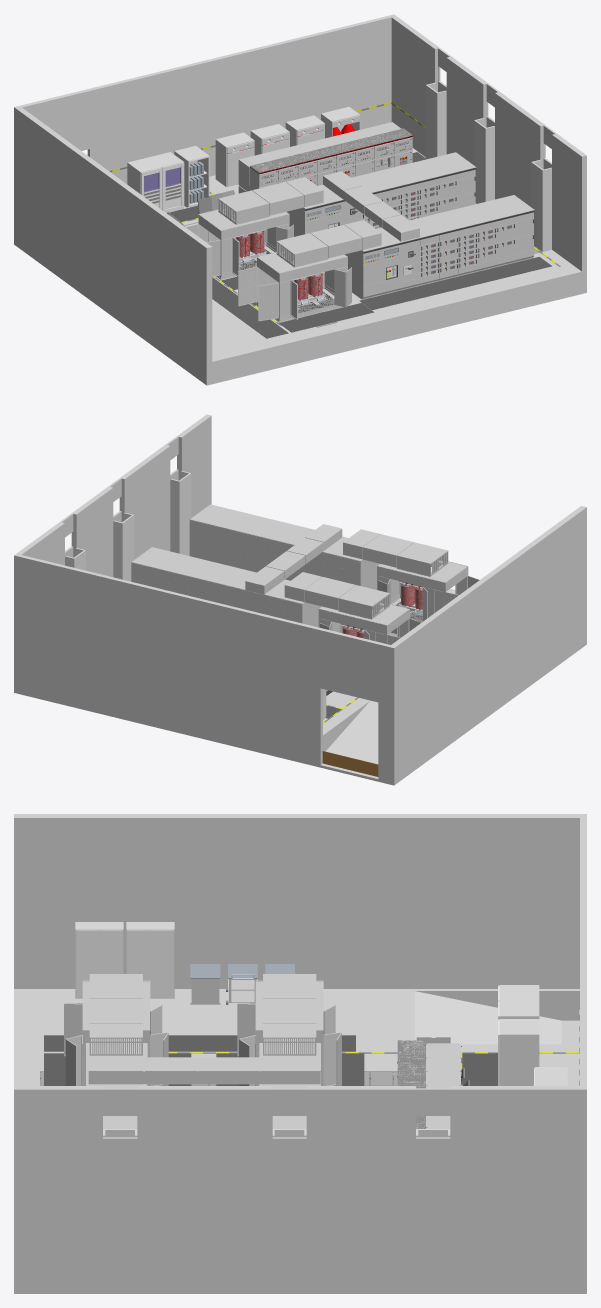
3 renders of one model, top to bottom at view 1: azimuth 30°, elevation 25°; view 2: azimuth 150°, elevation 25°; view 3: azimuth 270°, elevation 25°, orthographic. The views are drawn at different scales.
Visible parts, largest first — view 1: Material2.009, Material3.001, Material3, Material3.008, Material2.001, Material2.004, Material2.011, Material2.005, Material2.013, Material2.022, Material2.023, Material3.009; view 2: Material2.009, Material3.001, Material3, Material3.008, Material2, Material2.013; view 3: Material2.009, Material3, Material3.001, Material3.008, Material2.011, Material2.001, Material2.004, Material2.023, Material2.005.
Boxes of the visible parts, <box> form: Material2.009: <box>14,14,586,385</box>; Material3.001: <box>233,131,534,320</box>; Material3: <box>186,122,496,321</box>; Material3.008: <box>127,82,551,321</box>; Material2.001: <box>144,141,551,338</box>; Material2.004: <box>110,104,560,327</box>; Material2.011: <box>141,115,359,248</box>; Material2.005: <box>144,102,515,280</box>; Material2.013: <box>235,232,322,299</box>; Material2.022: <box>144,167,509,272</box>; Material2.023: <box>189,161,203,203</box>; Material3.009: <box>236,232,325,305</box>; Material2.009: <box>14,414,586,785</box>; Material3.001: <box>131,504,478,632</box>; Material3: <box>131,513,468,644</box>; Material3.008: <box>65,471,475,719</box>; Material2: <box>322,751,378,776</box>; Material2.013: <box>342,583,422,638</box>; Material2.009: <box>14,814,586,1293</box>; Material3: <box>65,974,461,1128</box>; Material3.001: <box>66,974,461,1128</box>; Material3.008: <box>75,922,567,1137</box>; Material2.011: <box>76,929,534,1085</box>; Material2.001: <box>44,1035,497,1085</box>; Material2.004: <box>40,1008,579,1123</box>; Material2.023: <box>190,964,294,978</box>; Material2.005: <box>226,988,565,1128</box>.
Bounding box in the file's own units: 74107 × 25591 × 65091.
